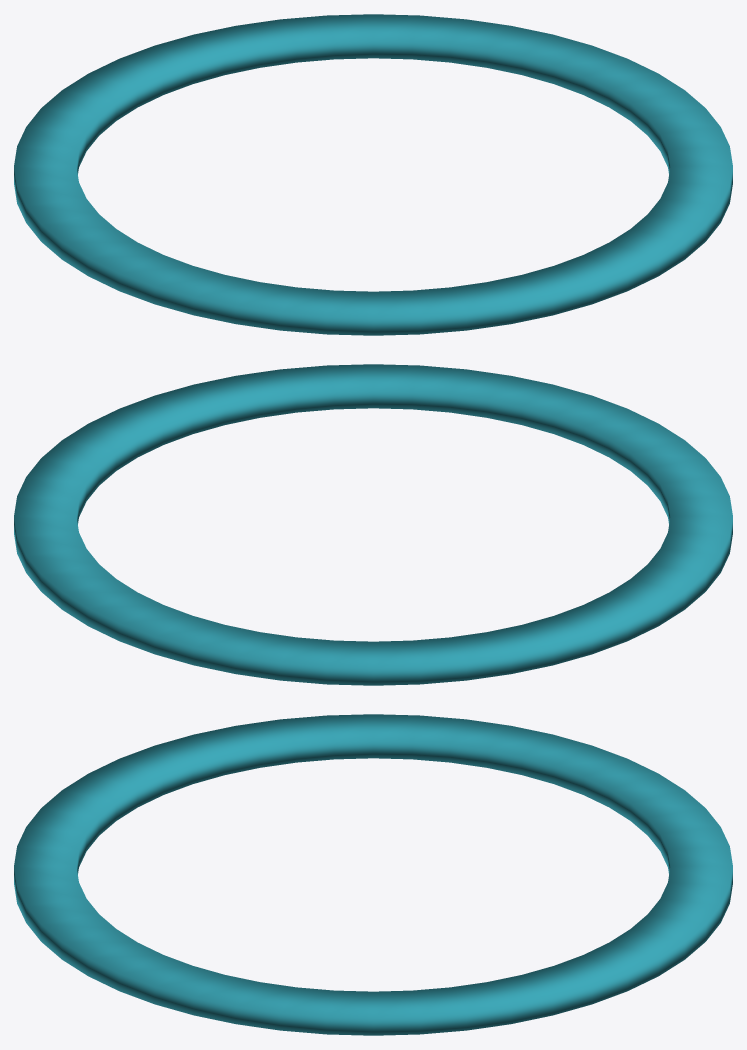
The model's file is SM_Puzzle_ViewpointMarker.fbx.
3 renders of one model, top to bottom at view 1: azimuth 30°, elevation 25°; view 2: azimuth 150°, elevation 25°; view 3: azimuth 270°, elevation 25°, orthographic.
Visible parts, largest first — view 1: Ground_marker; view 2: Ground_marker; view 3: Ground_marker.
Part boxes in pixels (x1=…): Ground_marker: x1=14, y1=14, x2=732, y2=335; Ground_marker: x1=14, y1=364, x2=732, y2=685; Ground_marker: x1=14, y1=714, x2=732, y2=1035.
Size of what is drawn, in the model's own units: 92 by 92 by 2.5.
